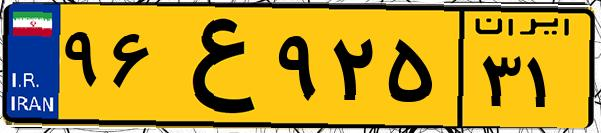1: (525, 38, 570, 115)
2: (330, 28, 385, 110)
3: (475, 38, 525, 113)
5: (385, 28, 445, 110)
6: (110, 28, 158, 98)
9: (270, 28, 330, 110), (57, 26, 110, 100)
ع: (158, 12, 270, 120)
